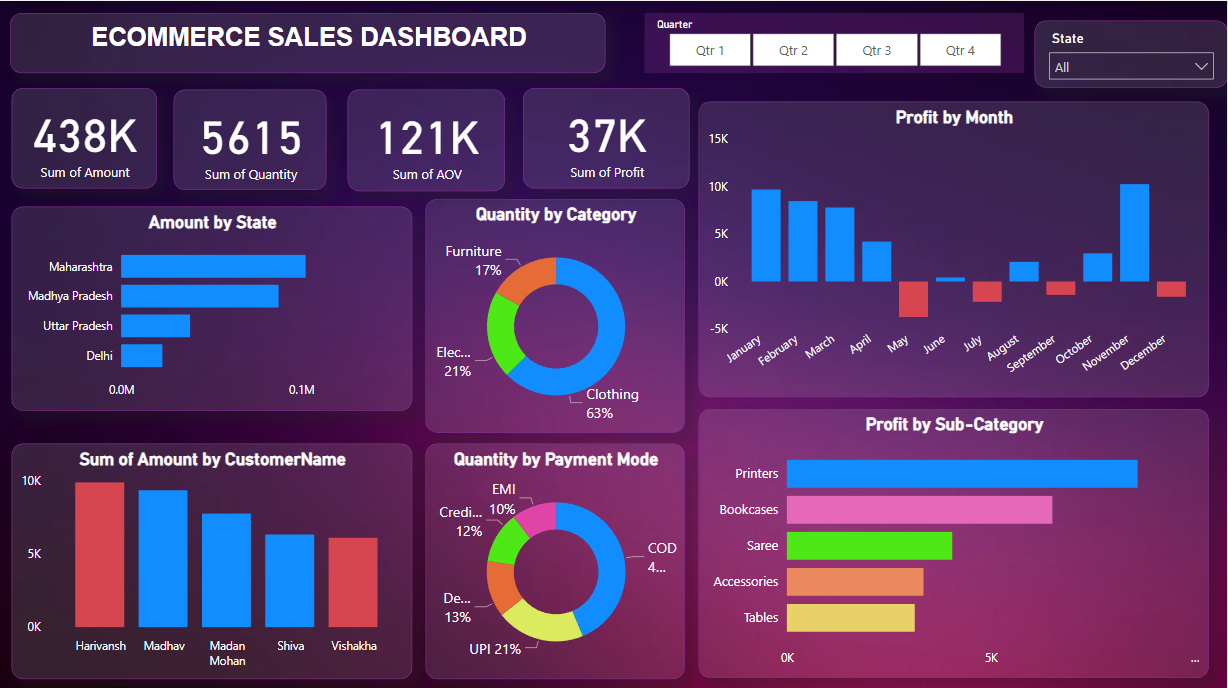

The page's visual inventory and layout, read from the dashboard file:
{"tool":"powerbi","page":{"name":"Page 1","canvas":[1280,720],"ordinal":0},"visuals":[{"type":"columnChart","title":"Profit by Month","fields":{"Category":["Orders.Order Date.Variation.Date Hierarchy.Month"],"Y":["Sum(Details.Profit)"]},"box":[729.4,104.6,531,307.7],"z":1},{"type":"barChart","title":"Profit by Sub-Category","fields":{"Category":["Details.Sub-Category"],"Y":["Sum(Details.Profit)"]},"box":[729.8,425.4,531.3,279.8],"z":2},{"type":"donutChart","title":"Quantity by Category","fields":{"Y":["Sum(Details.Quantity)"],"Category":["Details.Category"]},"box":[445.1,206.2,270.2,243.6],"z":3},{"type":"donutChart","title":"Quantity by Payment Mode","fields":{"Y":["Sum(Details.Quantity)"],"Category":["Details.PaymentMode"]},"box":[445.1,460.7,270.2,245.2],"z":4},{"type":"card","fields":{"Values":["Sum(Details.Amount)"]},"box":[14.1,90.6,151.5,104.6],"z":5},{"type":"card","fields":{"Values":["Sum(Details.Quantity)"]},"box":[182.7,92.1,159.3,104.6],"z":6},{"type":"card","fields":{"Values":["Sum(Details.Profit)"]},"box":[546.6,90.6,173.4,104.6],"z":7},{"type":"card","fields":{"Values":["Sum(Details.AOV)"]},"box":[363.9,92.1,164,106.2],"z":8},{"type":"barChart","title":"Amount by State","fields":{"Category":["Orders.State"],"Y":["Sum(Details.Amount)"]},"box":[14.1,214,417,212.4],"z":9},{"type":"columnChart","fields":{"Category":["Orders.CustomerName"],"Y":["Sum(Details.Amount)"]},"box":[14,461,417,245],"z":10},{"type":"textbox","box":[13.2,13.2,620.1,62.4],"z":11},{"type":"slicer","fields":{"Values":["Orders.Order Date.Variation.Date Hierarchy.Quarter"]},"box":[673.1,13.2,395.2,62.4],"z":12},{"type":"slicer","fields":{"Values":["Orders.State"]},"box":[1079.2,20.3,201.5,70.3],"z":13}]}

Visuals, with their boxes in screenshot pixels (x1, y1, x2, y2), scaled from the page's 1280x720 canvas onto the 1228x688 screenshot:
"Profit by Month" columnChart: locate(700, 100, 1209, 394)
"Profit by Sub-Category" barChart: locate(700, 406, 1210, 674)
"Quantity by Category" donutChart: locate(427, 197, 686, 430)
"Quantity by Payment Mode" donutChart: locate(427, 440, 686, 675)
card - Sum(Details.Amount): locate(14, 87, 159, 187)
card - Sum(Details.Quantity): locate(175, 88, 328, 188)
card - Sum(Details.Profit): locate(524, 87, 691, 187)
card - Sum(Details.AOV): locate(349, 88, 506, 189)
"Amount by State" barChart: locate(14, 204, 414, 407)
columnChart - Orders.CustomerName x Sum(Details.Amount): locate(13, 441, 413, 675)
textbox: locate(13, 13, 608, 72)
slicer - Orders.Order Date.Variation.Date Hierarchy.Quarter: locate(646, 13, 1025, 72)
slicer - Orders.State: locate(1035, 19, 1227, 87)
